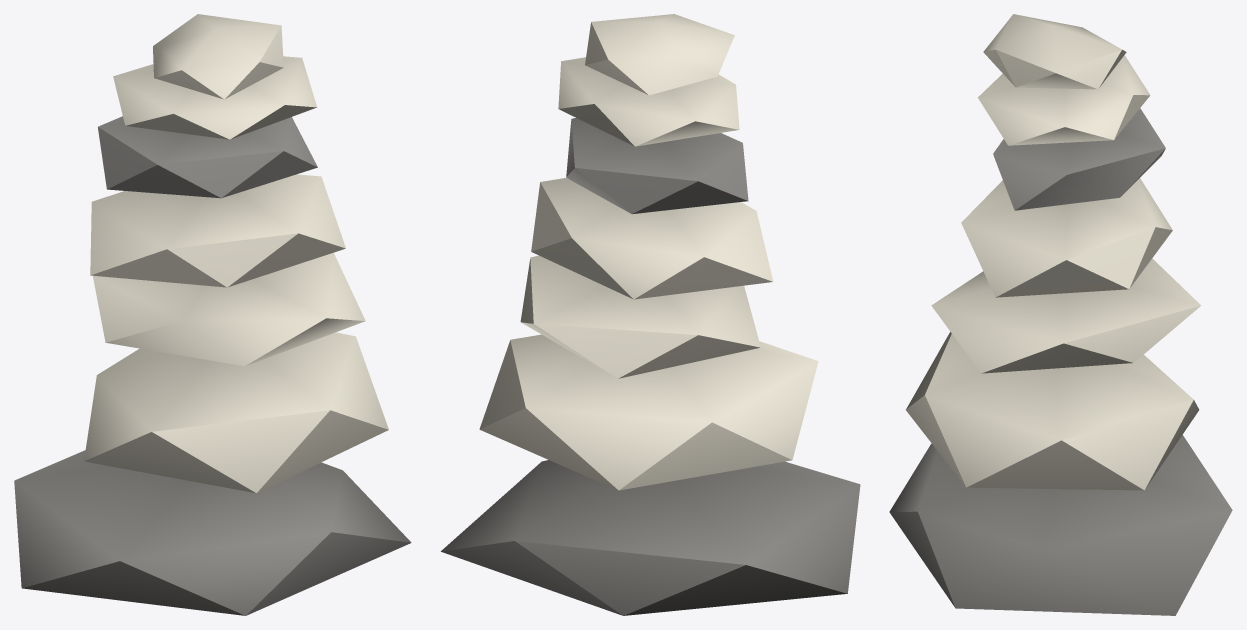
The model's file is cairn_b.glb.
3 renders of one model, left to right at view 1: azimuth 30°, elevation 25°; view 2: azimuth 150°, elevation 25°; view 3: azimuth 270°, elevation 25°, orthographic.
Visible parts, largest first — view 1: cairn_b; view 2: cairn_b; view 3: cairn_b.
Part boxes in pixels (<box>): cairn_b: <box>14,14,411,615</box>; cairn_b: <box>441,14,860,615</box>; cairn_b: <box>889,14,1232,615</box>.
Size of the model in its own units: 1.08 by 1.64 by 0.9369.
